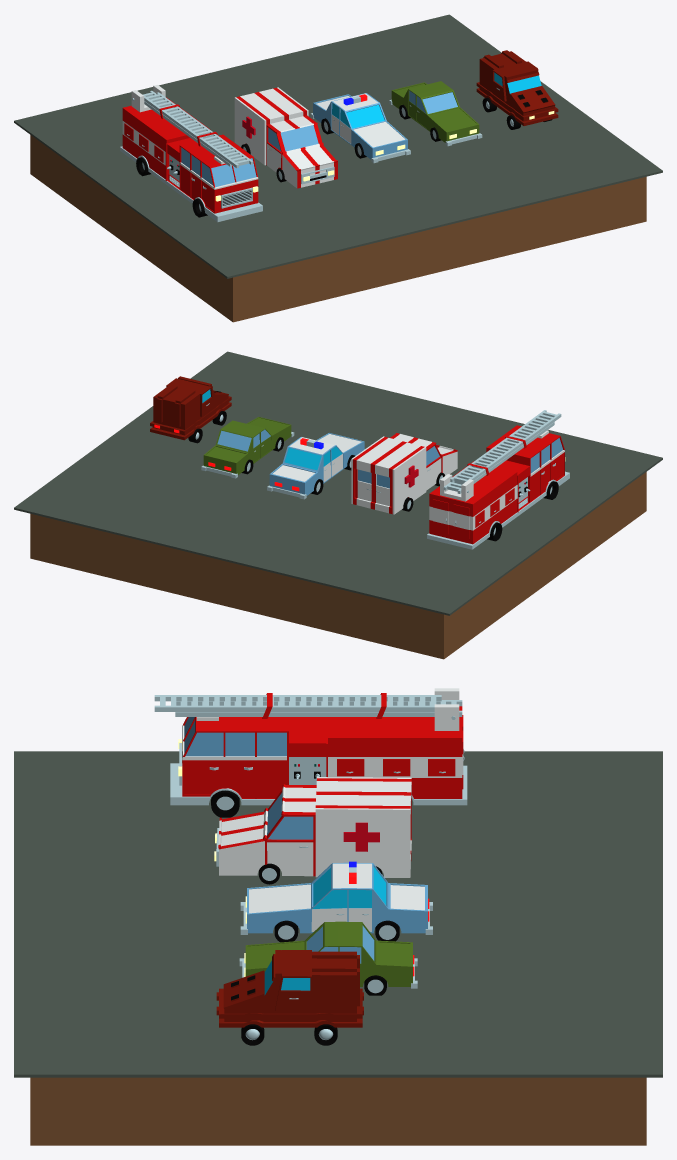
Rendered from cars.fbx.
The picture shows the model from 3 angles, top to bottom: view 1: azimuth 30°, elevation 25°; view 2: azimuth 150°, elevation 25°; view 3: azimuth 270°, elevation 25°; orthographic projection. The views are drawn at different scales.
Parts seen in each view (by area): view 1: Cube.006_Cube.041, Plane.299_Plane.305, Plane.100_Plane.110, Plane.302_Plane.308, Plane.197_Plane.007, Plane.300_Plane.306; view 2: Cube.006_Cube.041, Plane.299_Plane.305, Plane.100_Plane.110, Plane.197_Plane.007, Plane.302_Plane.308, Plane.300_Plane.306; view 3: Cube.006_Cube.041, Plane.299_Plane.305, Plane.100_Plane.110, Plane.302_Plane.308, Plane.197_Plane.007, Plane.300_Plane.306, Plane.198_Plane.041, Plane.002_Plane.001.
Part boxes in pixels (<box>): Cube.006_Cube.041: <box>14,14,662,322</box>; Plane.299_Plane.305: <box>120,85,262,222</box>; Plane.100_Plane.110: <box>234,87,337,188</box>; Plane.302_Plane.308: <box>476,50,558,125</box>; Plane.197_Plane.007: <box>310,93,410,163</box>; Plane.300_Plane.306: <box>389,81,482,146</box>; Cube.006_Cube.041: <box>14,351,662,659</box>; Plane.299_Plane.305: <box>427,410,569,549</box>; Plane.100_Plane.110: <box>351,433,457,514</box>; Plane.197_Plane.007: <box>267,433,364,499</box>; Plane.302_Plane.308: <box>150,376,231,440</box>; Plane.300_Plane.306: <box>201,417,294,478</box>; Cube.006_Cube.041: <box>14,751,662,1145</box>; Plane.299_Plane.305: <box>154,688,467,805</box>; Plane.100_Plane.110: <box>214,777,411,877</box>; Plane.302_Plane.308: <box>216,950,363,1027</box>; Plane.197_Plane.007: <box>240,861,432,934</box>; Plane.300_Plane.306: <box>239,921,417,988</box>; Plane.198_Plane.041: <box>274,920,399,942</box>; Plane.002_Plane.001: <box>211,790,239,817</box>.
Size of the model in its own units: 2089 by 543 by 1773.
